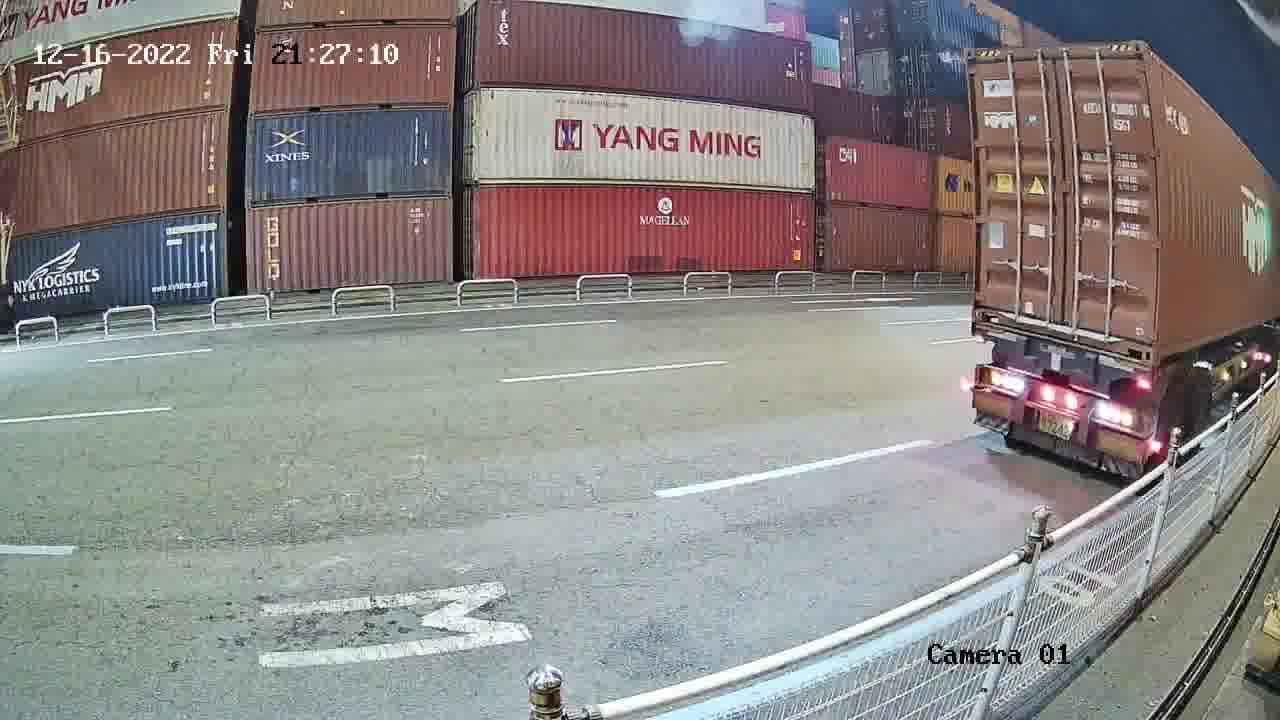Chassis: (974, 323, 1152, 397)
Hole_L: (975, 283, 1014, 327)
Hole_R: (1123, 312, 1157, 362)
